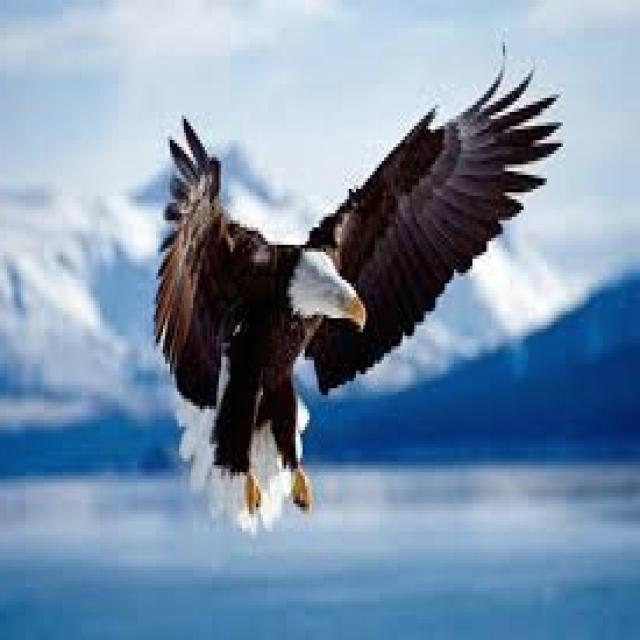eagle: (156, 75, 561, 521)
